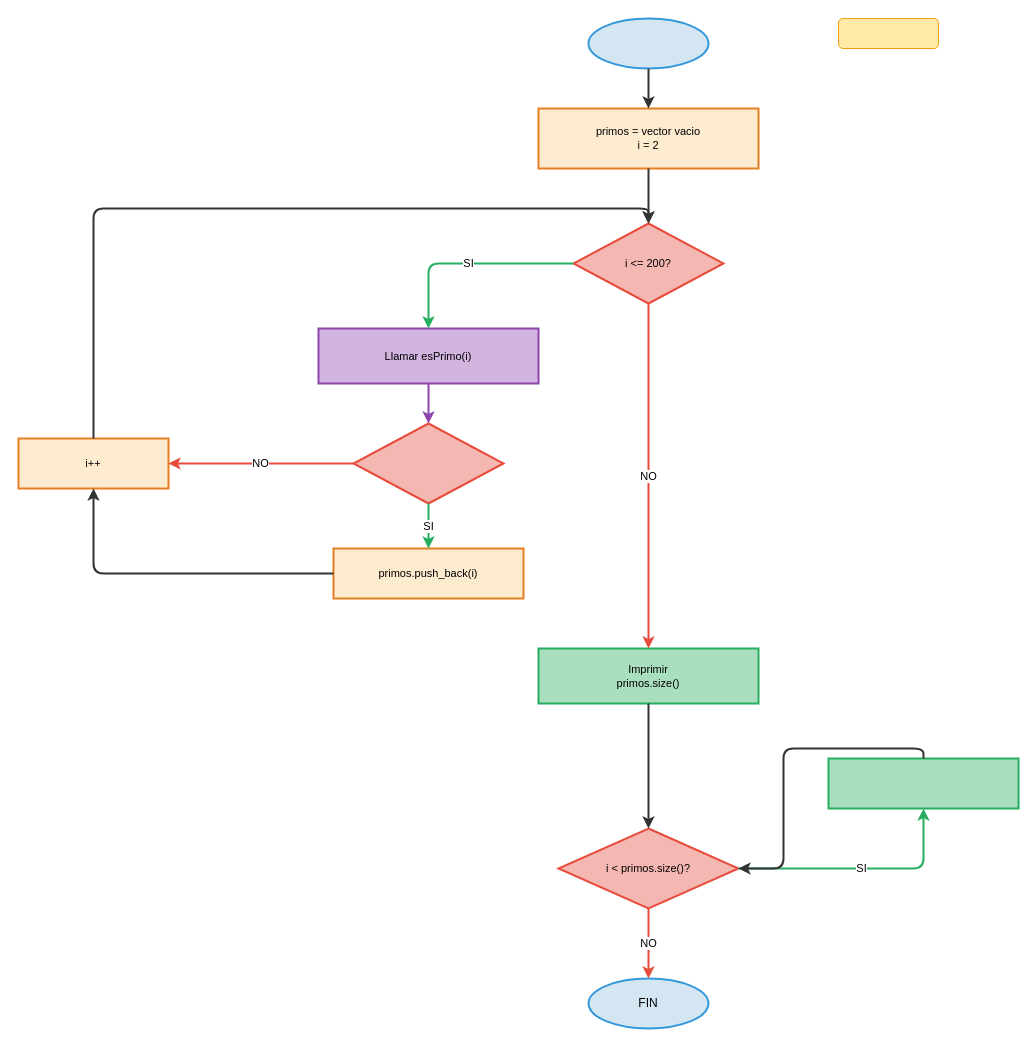
Some shapes in this 1036 by 1046 pixel diagram are drawn without their labels. The shapes that lost their labels are listed below. From the top down, each one's centre as x and y in pixels, then its label:
the point at 648,43: INICIO
the point at 888,33: O(n*sqrt(n))
the point at 428,463: esPrimo(i)?
the point at 923,783: Imprimir primos[i]
